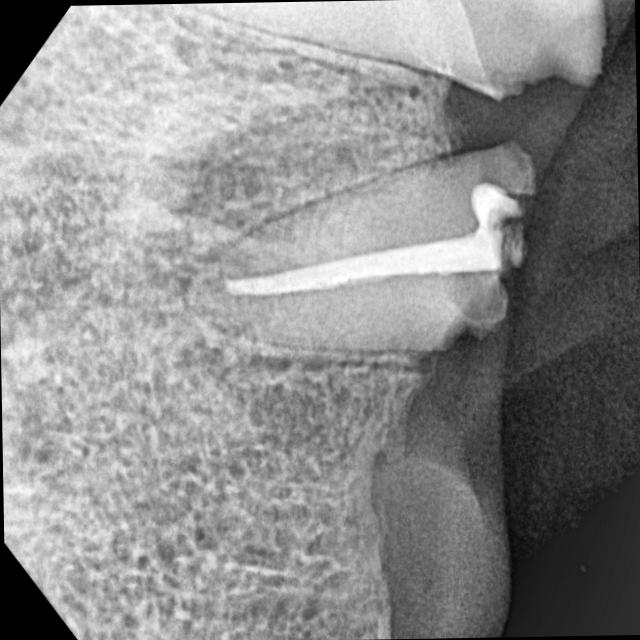RCT: (178, 168, 543, 368)
